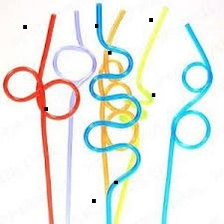drinking_straw: (0, 6, 83, 223), (157, 16, 218, 224)
